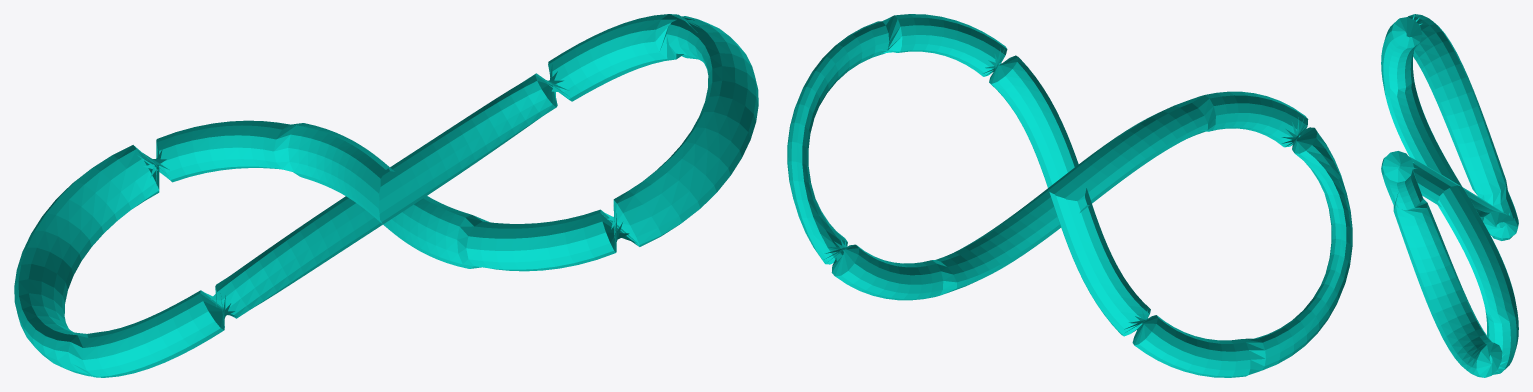
File: 2_bernoulli_mobius.glb
3 views of the same model, side by side, from view 1: azimuth 30°, elevation 25°; view 2: azimuth 150°, elevation 25°; view 3: azimuth 270°, elevation 25° (orthographic). The views are drawn at different scales.
Size of the model in its own units: 5.22 by 2.07 by 1.3.
